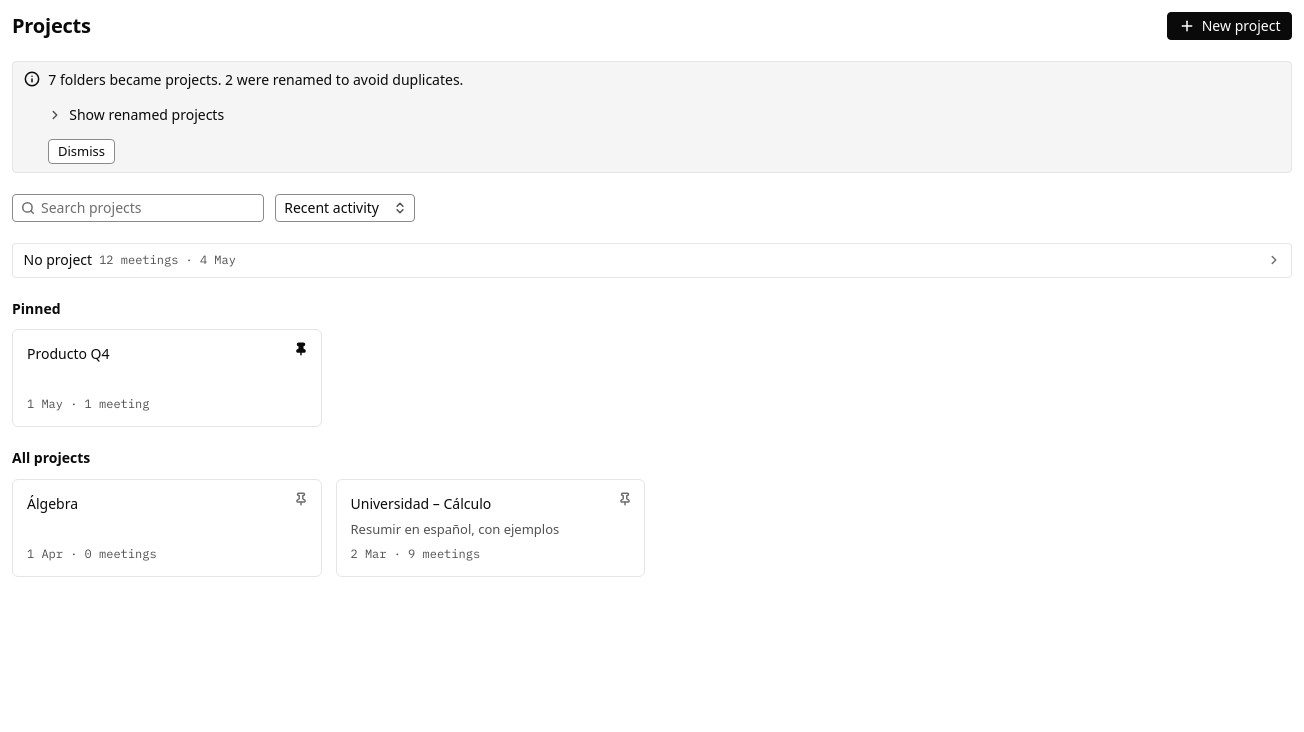
Test case: migration notice › says how many folders became projects and how many were renamed, with the list on demand
expect the message with test id "migration-notice" shows "7 folders became projects. 2 were renamed to avoid duplicates.": met, box top-left (12, 61), bottom-right (1292, 172)
Click the heading "Show renamed projects".
click(136, 114)  # box top-left (48, 104), bottom-right (224, 124)
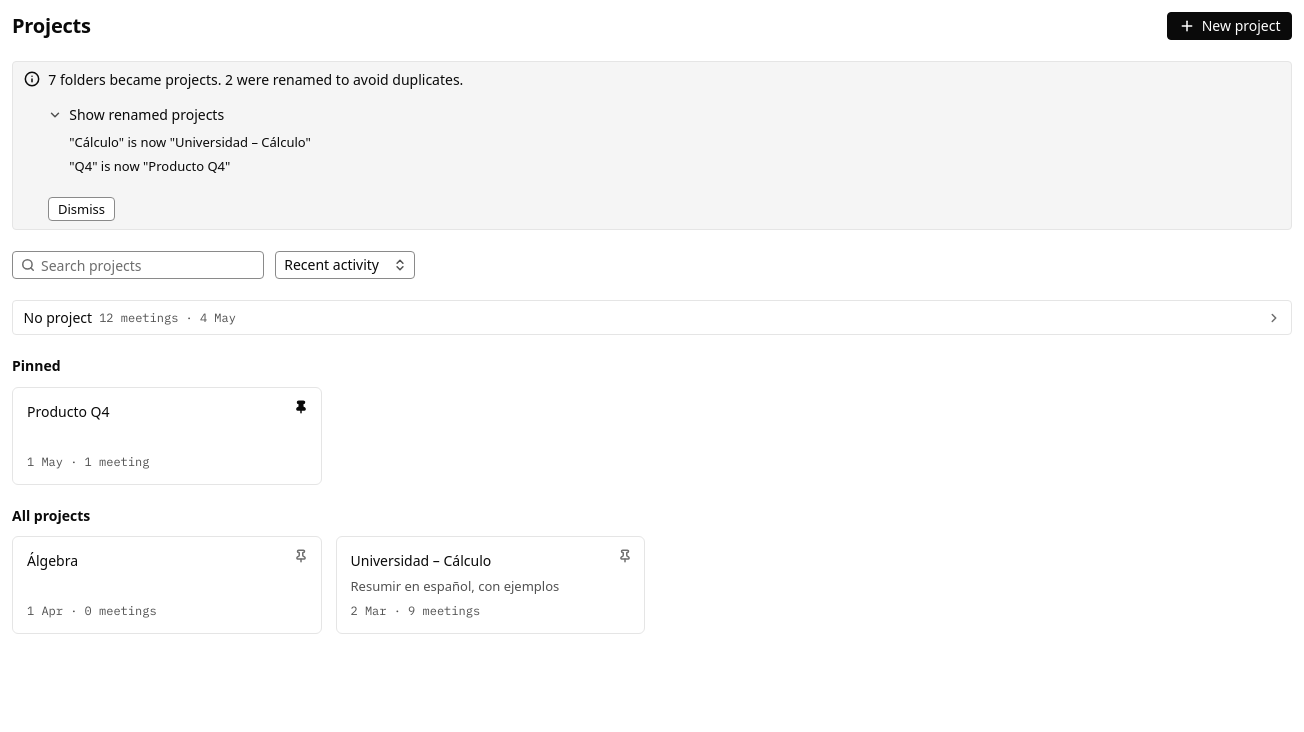
expect the list item "\"Cálculo\" is now \"Universidad – Cálculo\"" is shown: met, box top-left (69, 133), bottom-right (311, 151)
